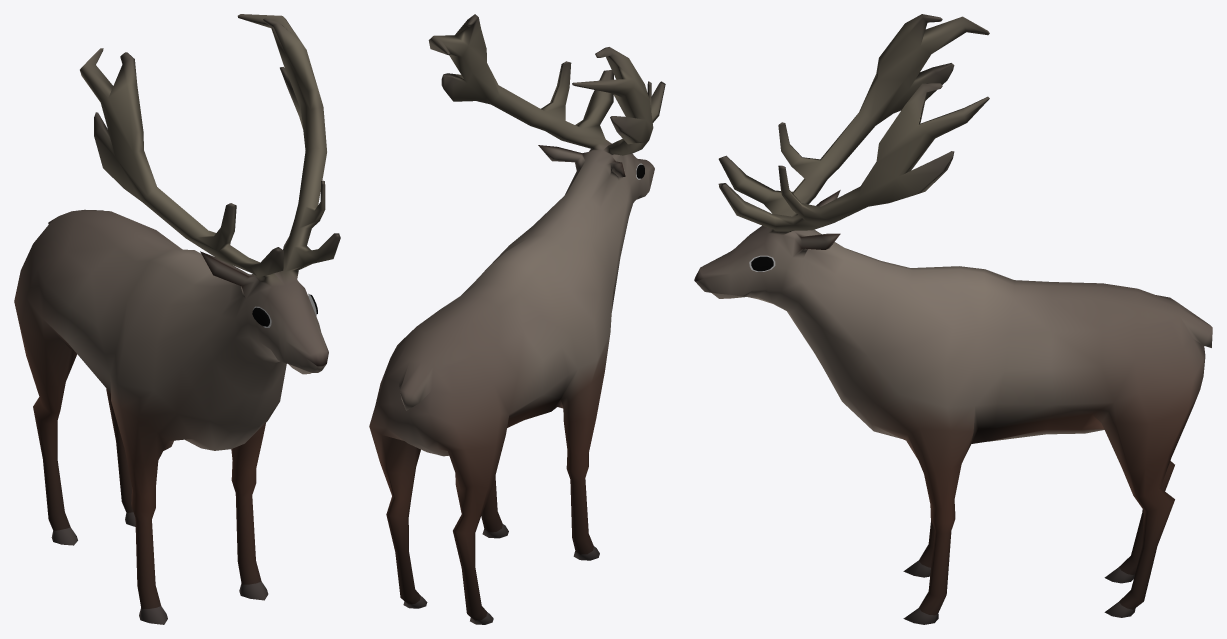
File: SmallDeer.glb
3 renders of one model, left to right at view 1: azimuth 30°, elevation 25°; view 2: azimuth 150°, elevation 25°; view 3: azimuth 270°, elevation 25°, orthographic. The views are drawn at different scales.
Visible parts, largest first — view 1: alt610; view 2: alt610; view 3: alt610.
Part boxes in pixels (<box>): alt610: <box>14,14,340,624</box>; alt610: <box>369,14,665,624</box>; alt610: <box>694,14,1212,624</box>.
Bounding box in the file's own units: 1.02 × 2.62 × 2.26.
